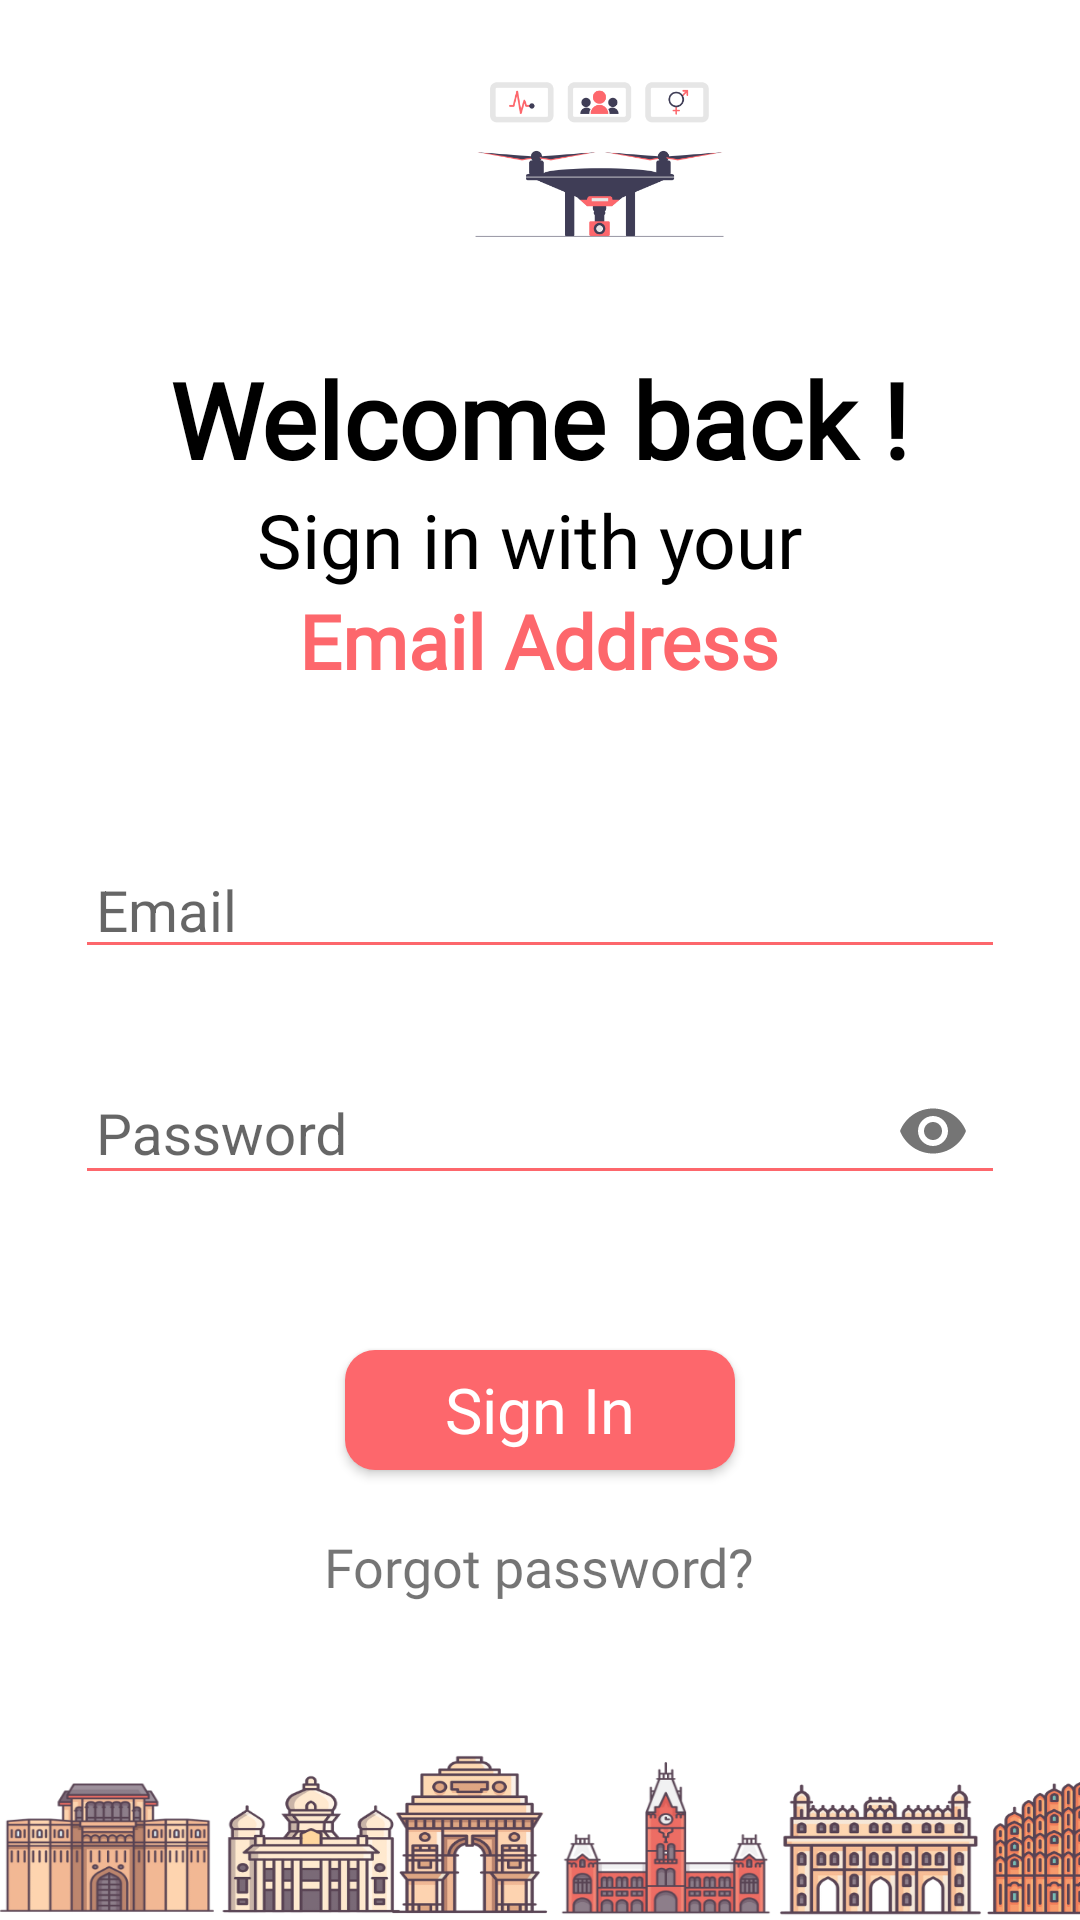

Screen size 1080×1920. Icon name, then its box in pixels as (x1, y1, x2, y2):
technologyicon: (475, 83, 724, 237)
